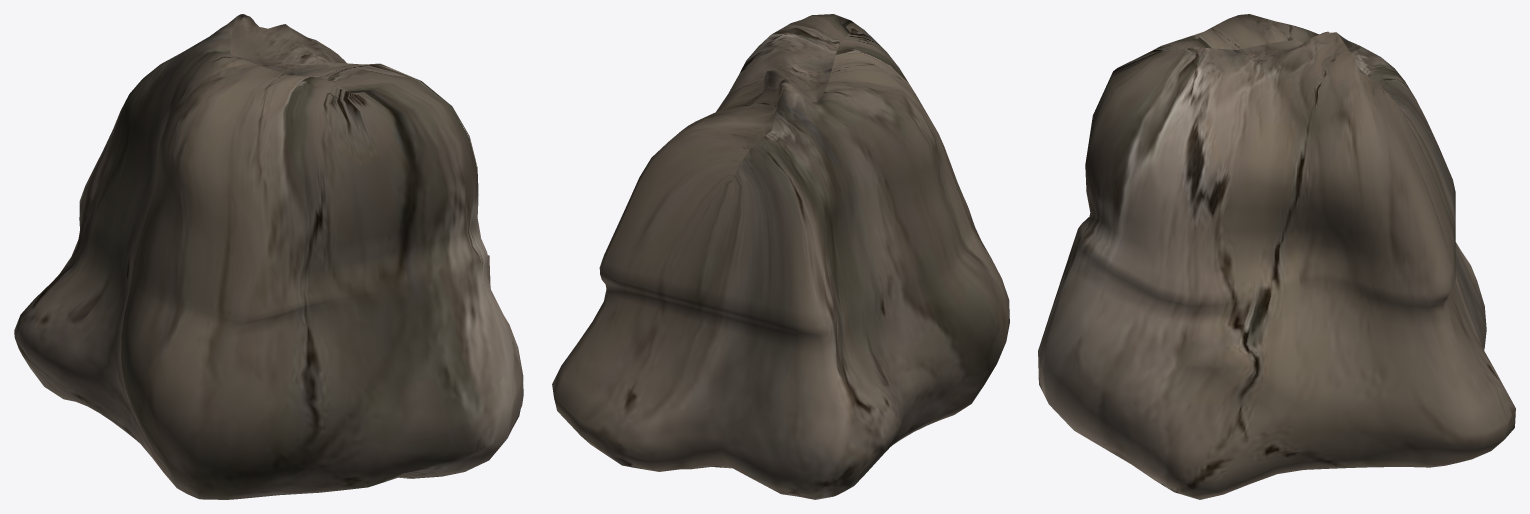
The model's file is Rock Small.fbx.
3 views of the same model, side by side, from view 1: azimuth 30°, elevation 25°; view 2: azimuth 150°, elevation 25°; view 3: azimuth 270°, elevation 25° (orthographic). The views are drawn at different scales.
Visible parts, largest first — view 1: Rock_Small; view 2: Rock_Small; view 3: Rock_Small.
Boxes of the visible parts, <box> form: Rock_Small: <box>14,14,523,499</box>; Rock_Small: <box>552,14,1009,499</box>; Rock_Small: <box>1038,14,1515,499</box>.
Size of the model in its own units: 48.85 by 52.23 by 57.32.
1 material, 1 textured.
